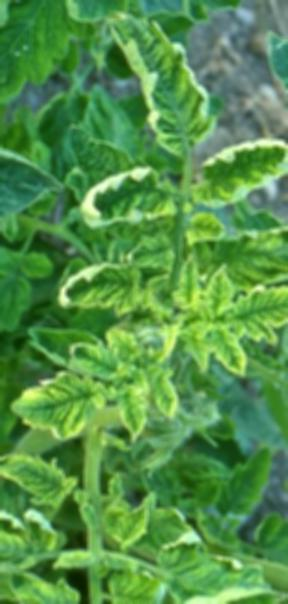Tomato leaf yellow virus: (94, 0, 213, 155), (192, 136, 288, 217), (7, 367, 110, 441), (77, 165, 172, 224), (56, 263, 142, 315), (0, 452, 73, 510), (224, 275, 288, 340), (101, 565, 168, 604), (201, 264, 241, 318)
